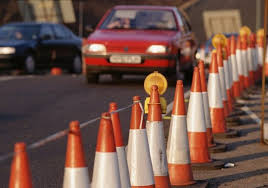car: (83, 7, 195, 87), (1, 23, 84, 76), (207, 52, 226, 134), (216, 44, 230, 118)
cone: (126, 96, 154, 188), (171, 80, 194, 186), (147, 85, 169, 188), (61, 120, 90, 188), (94, 112, 119, 188), (190, 67, 210, 162), (10, 141, 32, 188)
